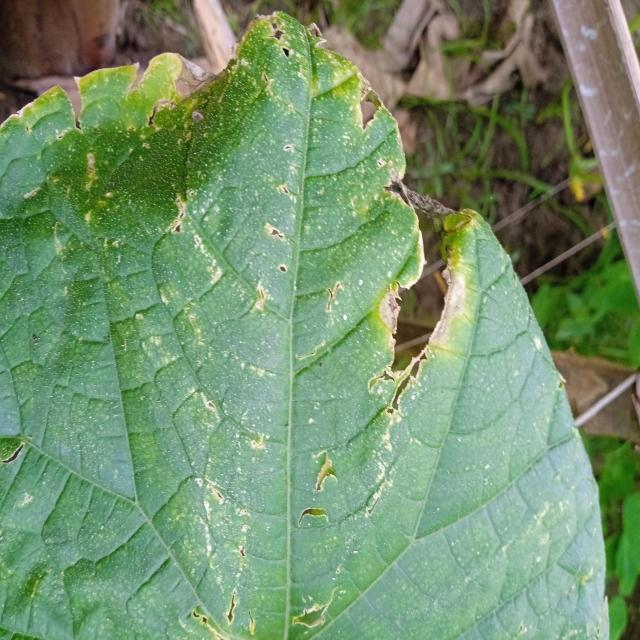cucumber_anthracnose: (34, 11, 497, 529)
